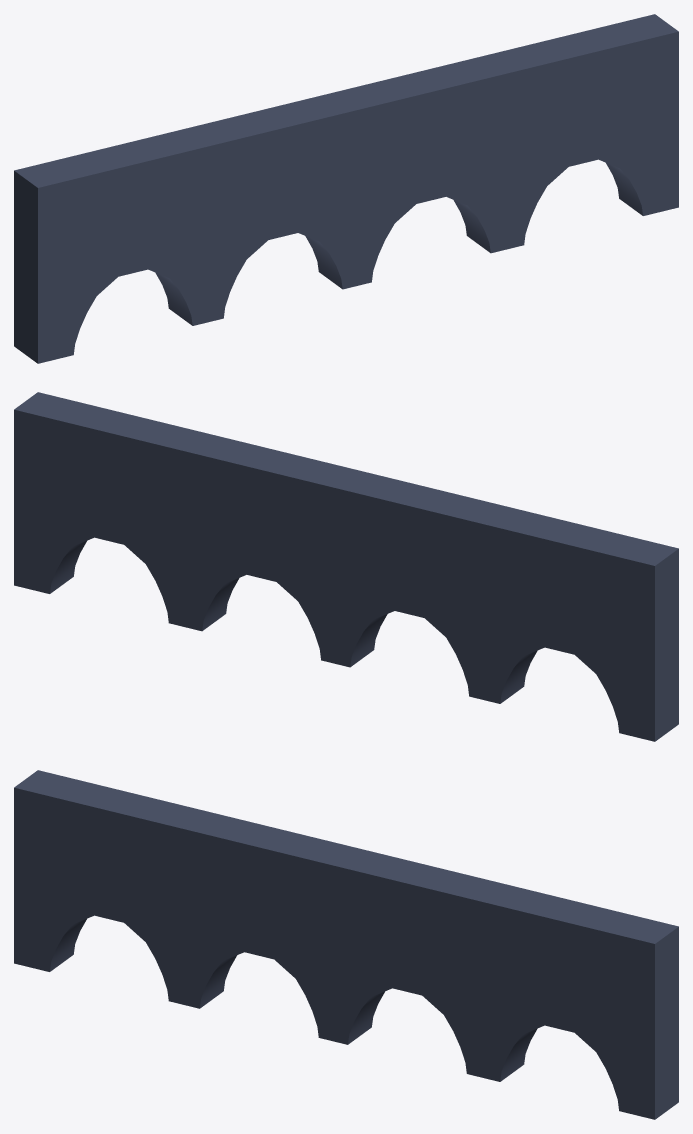
Rendered from Mur.fbx.
The picture shows the model from 3 angles, top to bottom: view 1: azimuth 30°, elevation 25°; view 2: azimuth 150°, elevation 25°; view 3: azimuth 330°, elevation 25°; orthographic projection.
Visible parts, largest first — view 1: Mur_export; view 2: Mur_export; view 3: Mur_export.
Part boxes in pixels (x1,y1,x2,y2): Mur_export: (14, 14, 678, 363); Mur_export: (14, 392, 678, 741); Mur_export: (14, 770, 678, 1119).
Size of the model in its own units: 2618 by 686 by 169.
